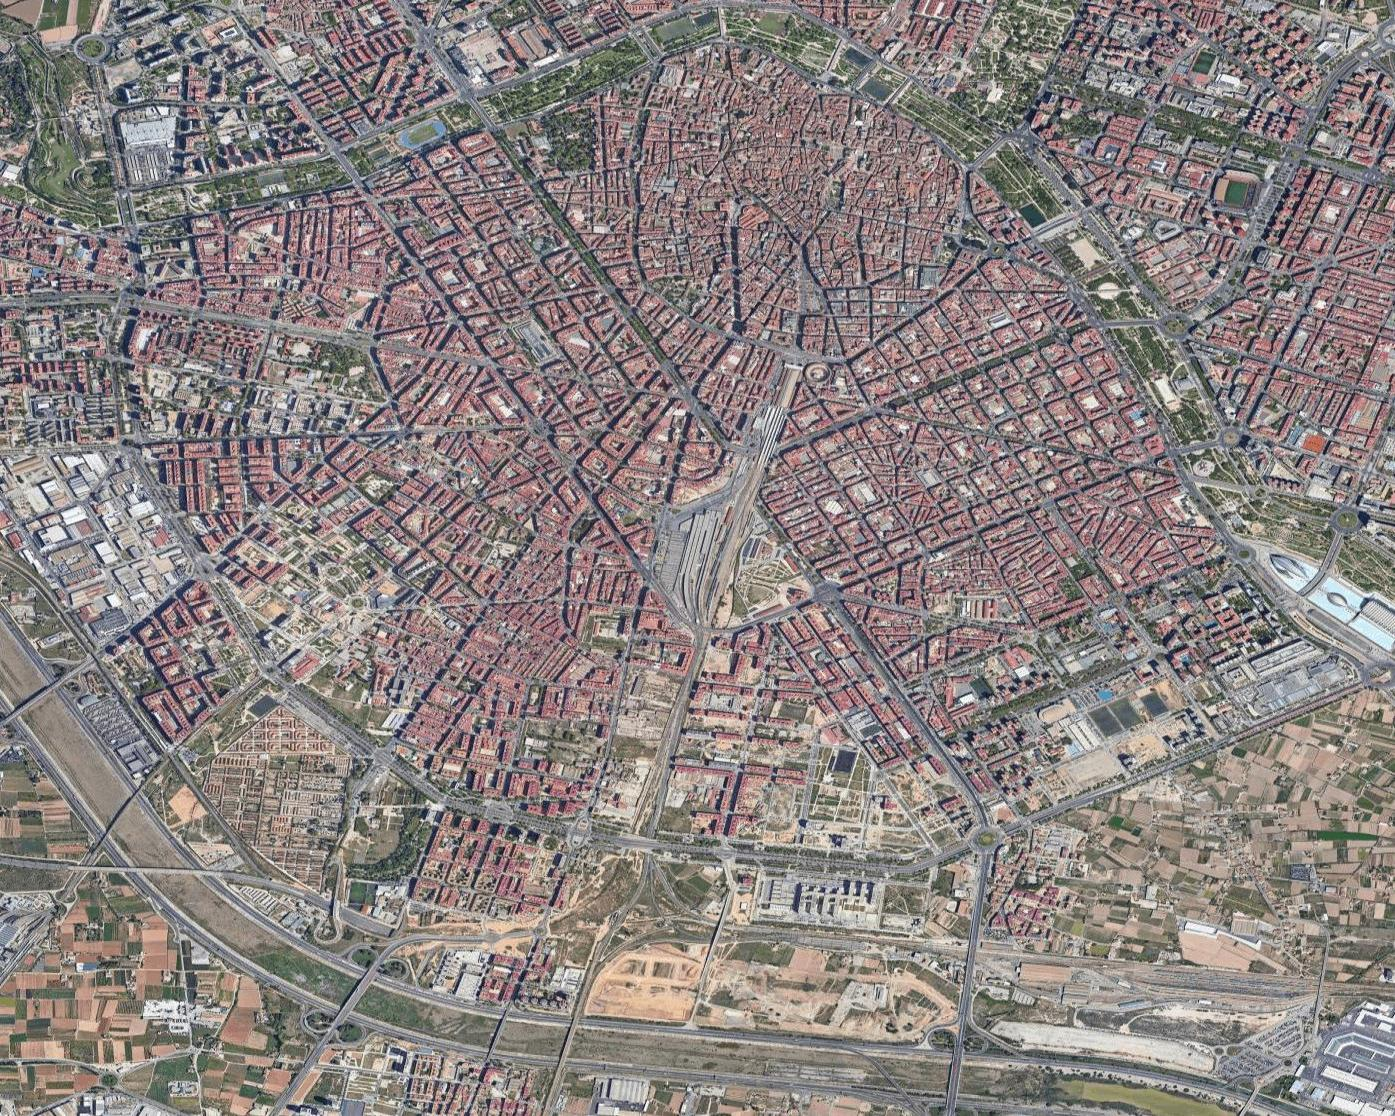bridge: (102, 781, 137, 837), (9, 679, 54, 719), (339, 973, 372, 1015), (945, 1039, 966, 1101), (557, 1015, 581, 1066)
motorway: (1093, 1055, 1293, 1116), (80, 807, 184, 921), (187, 918, 311, 1011), (230, 891, 351, 973), (1, 694, 82, 809), (139, 791, 227, 889), (355, 968, 504, 1019), (61, 696, 136, 794), (309, 1001, 445, 1050), (498, 1008, 695, 1041), (697, 1029, 894, 1062), (895, 1041, 1092, 1074), (446, 1042, 619, 1076), (621, 1059, 794, 1093), (797, 1075, 970, 1109), (1, 607, 60, 691)
train_station: (668, 500, 746, 622)
